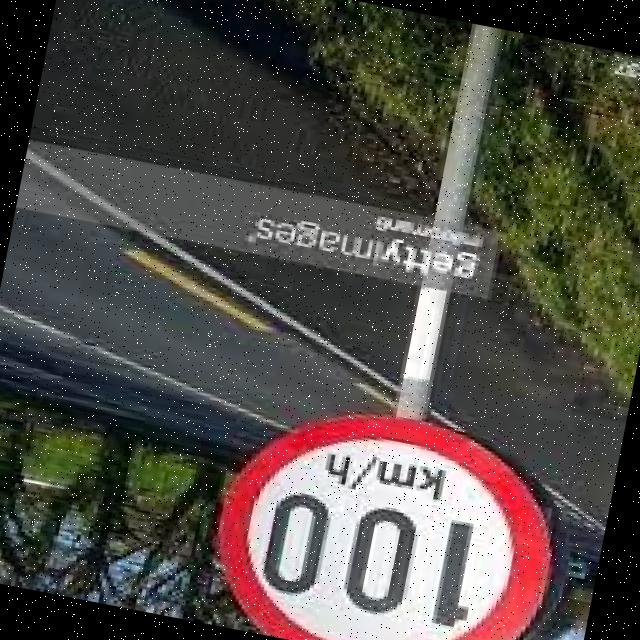speed_limit_100: (196, 389, 574, 640)
